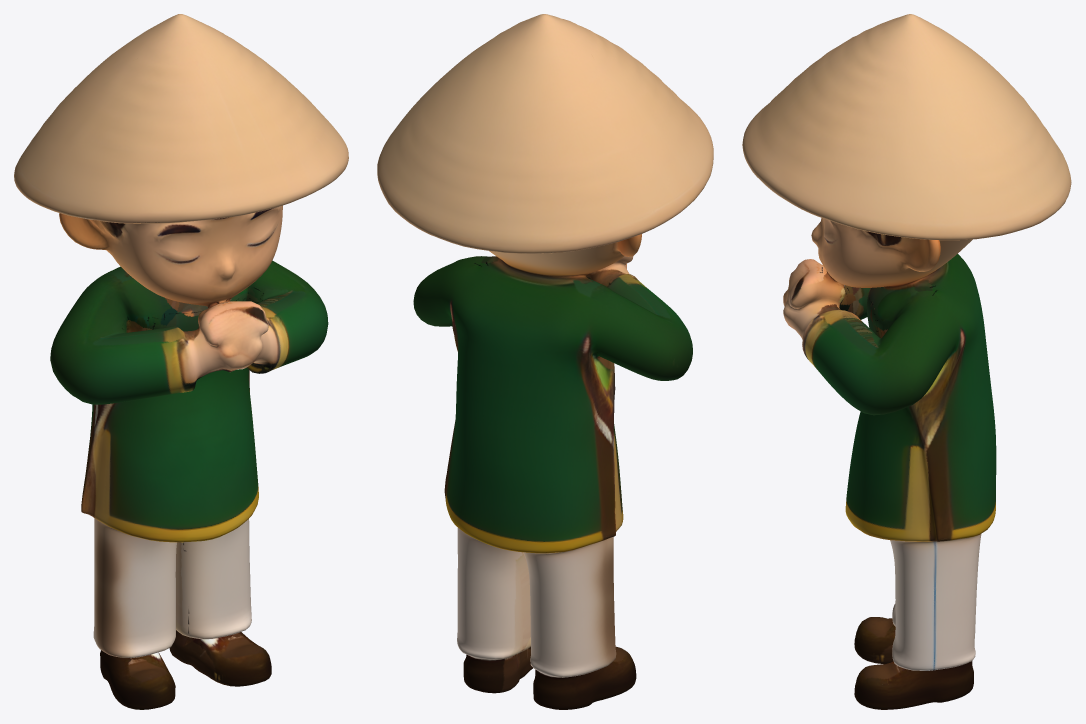
The model's file is nibi-co-do-hoa-lu-v2.glb.
3 renders of one model, left to right at view 1: azimuth 30°, elevation 25°; view 2: azimuth 150°, elevation 25°; view 3: azimuth 270°, elevation 25°, orthographic.
Parts seen in each view (by area): view 1: Nibi_CoDoHoaLu_Matte_v2; view 2: Nibi_CoDoHoaLu_Matte_v2; view 3: Nibi_CoDoHoaLu_Matte_v2.
Part boxes in pixels (x1,y1,x2,y2): Nibi_CoDoHoaLu_Matte_v2: [14, 14, 348, 709]; Nibi_CoDoHoaLu_Matte_v2: [377, 14, 713, 709]; Nibi_CoDoHoaLu_Matte_v2: [742, 14, 1071, 709].
Size of the model in its own units: 0.8741 by 1.91 by 0.8593.
1 material, 1 textured.
